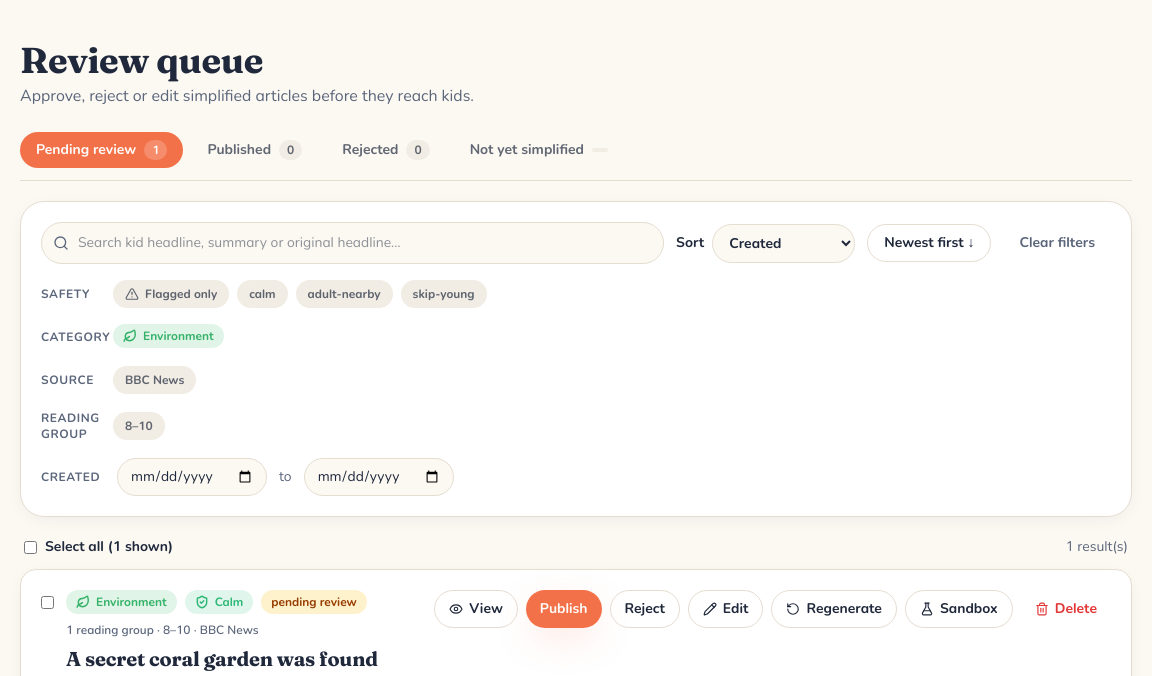
Test: confirmations that belong to the product › bulk delete says how many, and skips nothing silently
The width and height of the screenshot is (1152, 676).
expect the button "A secret coral garden was found" is shown: met, box [66, 646, 378, 671]
Click the checkbox labelled "Select all (1 shown)": click(30, 547) [24, 540, 37, 554]
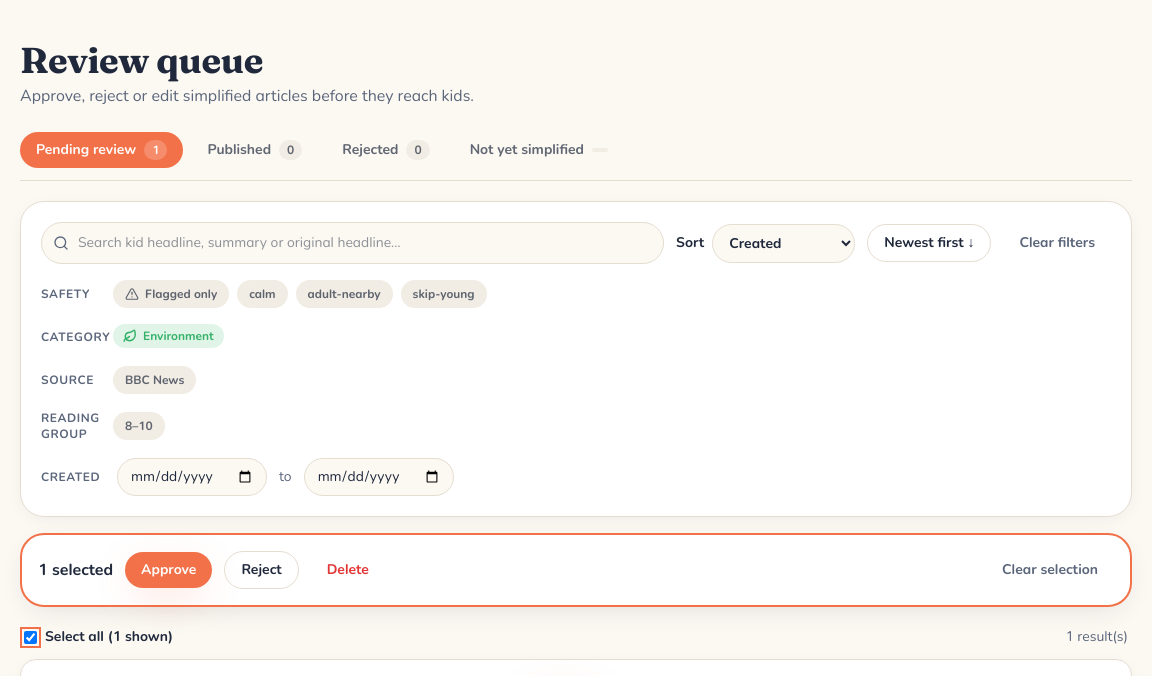
Click the button "Delete" in the row of "selected": click(348, 570) [311, 552, 385, 588]
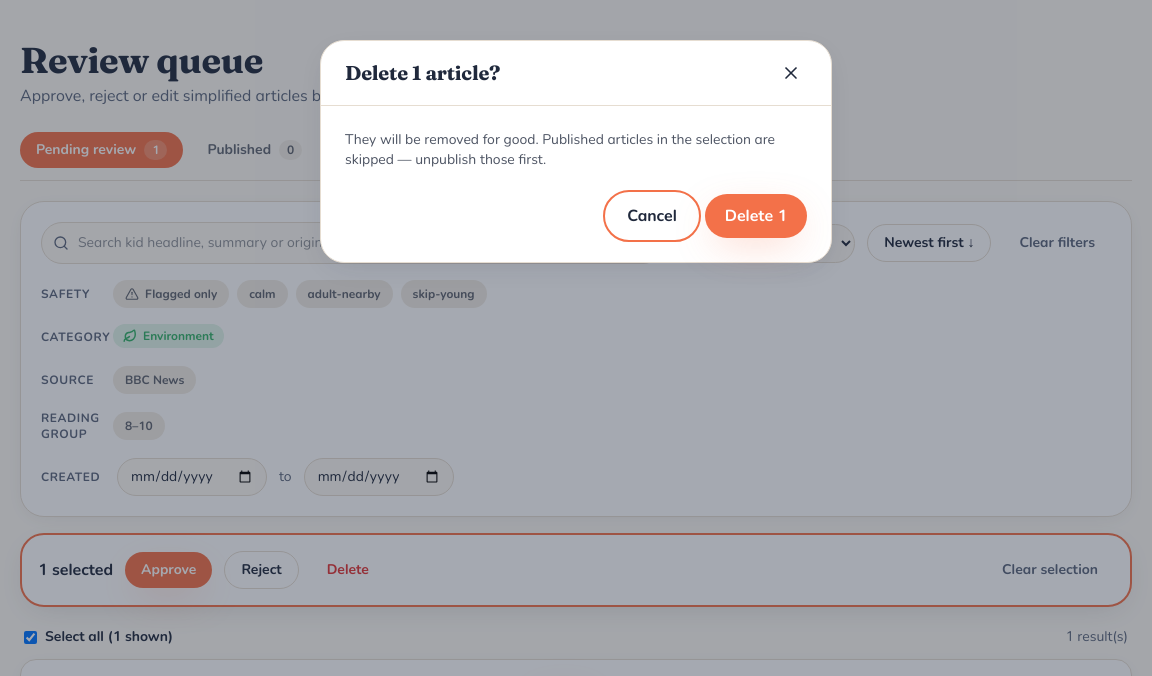
expect the text "Published articles in the selection are skipped" is shown: met, box [345, 130, 775, 169]
